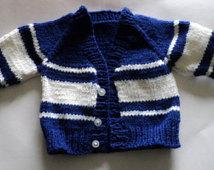S_cardigan sweater: (9, 9, 214, 157)
